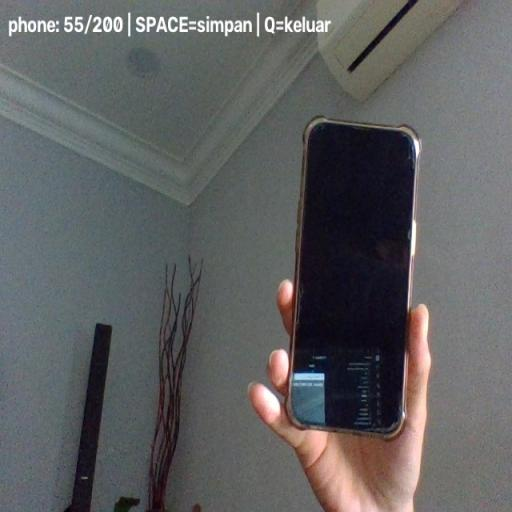Phone: (284, 118, 422, 440)
